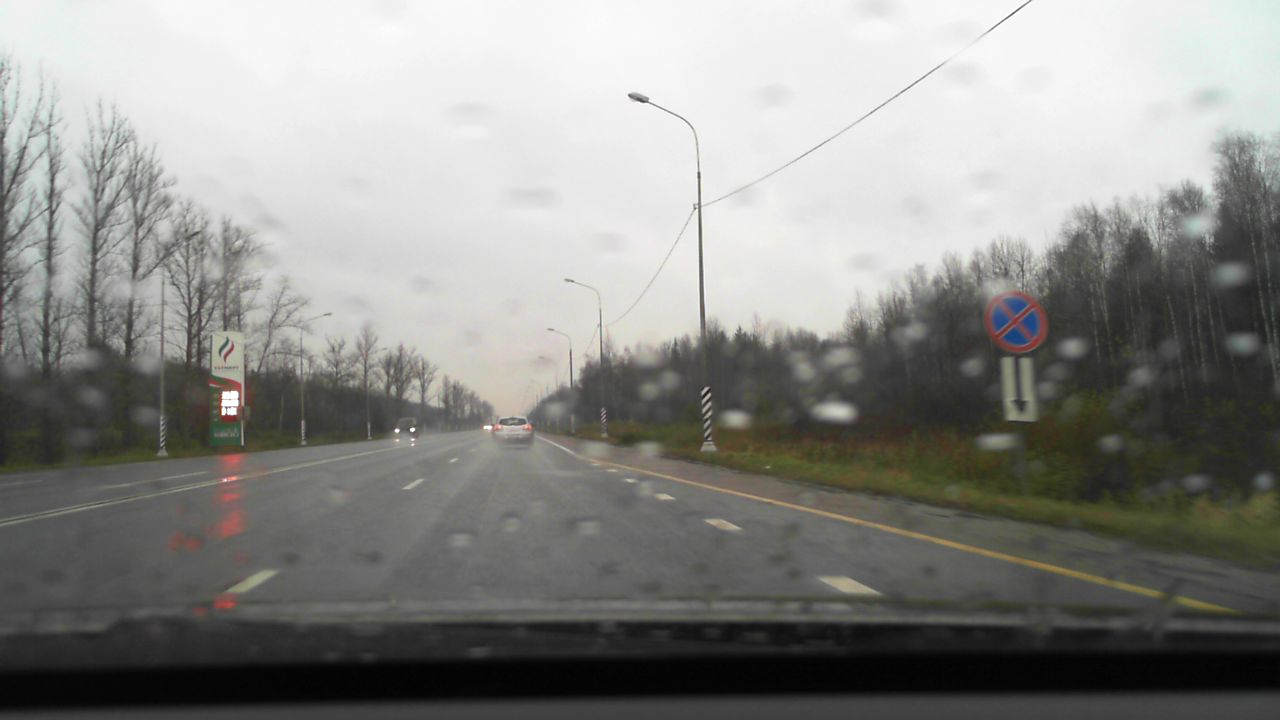No Parking: (983, 291, 1048, 353)
